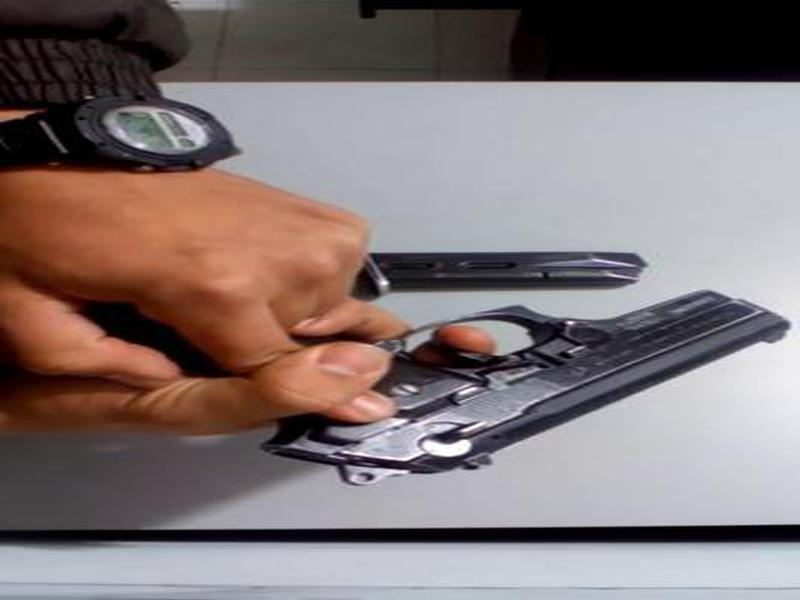Pistola: (254, 254, 797, 487)
